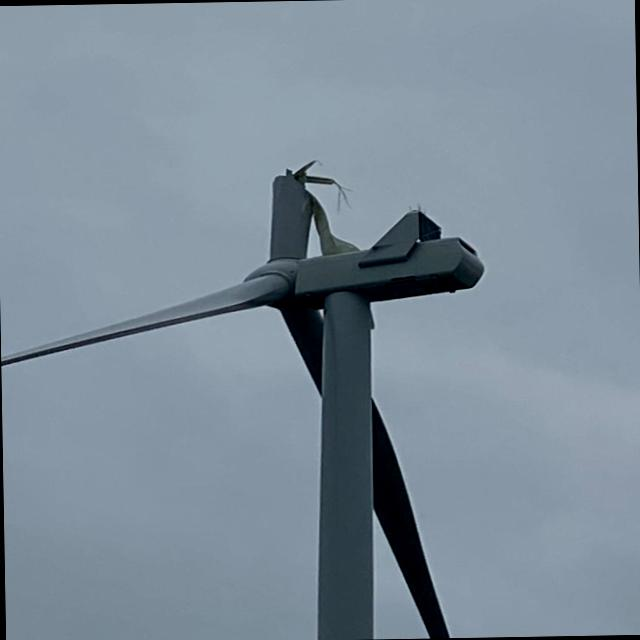crack: (242, 157, 344, 264)
